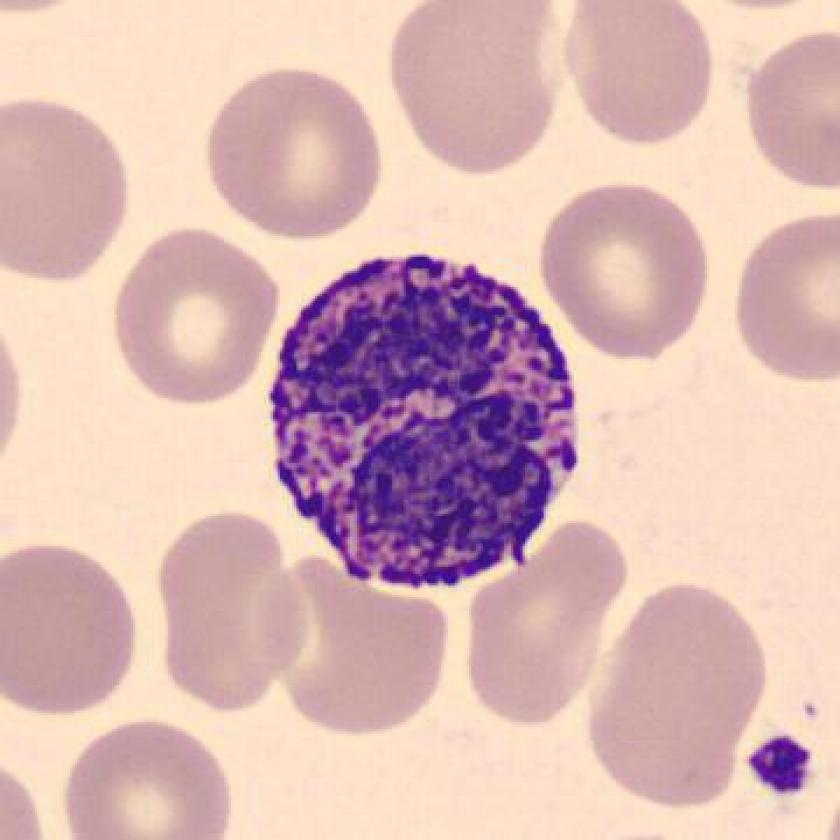basophil: (265, 239, 587, 598)
